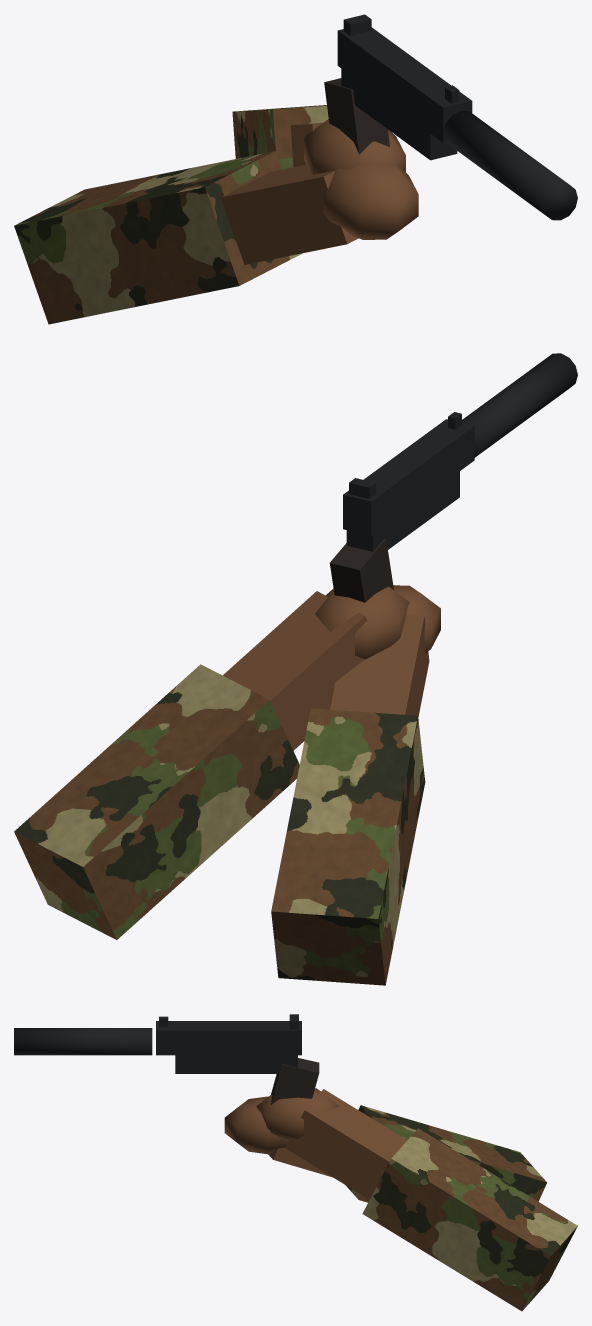
File: fp_pistol.glb
The picture shows the model from 3 angles, top to bottom: view 1: azimuth 30°, elevation 25°; view 2: azimuth 150°, elevation 25°; view 3: azimuth 270°, elevation 25°; orthographic projection. The views are drawn at different scales.
Visible parts, largest first — view 1: Weapon; view 2: Weapon; view 3: Weapon.
Part boxes in pixels (x1,y1,x2,y2): Weapon: (14,14,577,324); Weapon: (14,353,577,985); Weapon: (14,1014,577,1311).
Bounding box in the file's own units: 0.3638 × 0.366 × 0.7344.
Materials: 4 (1 with a texture image).
